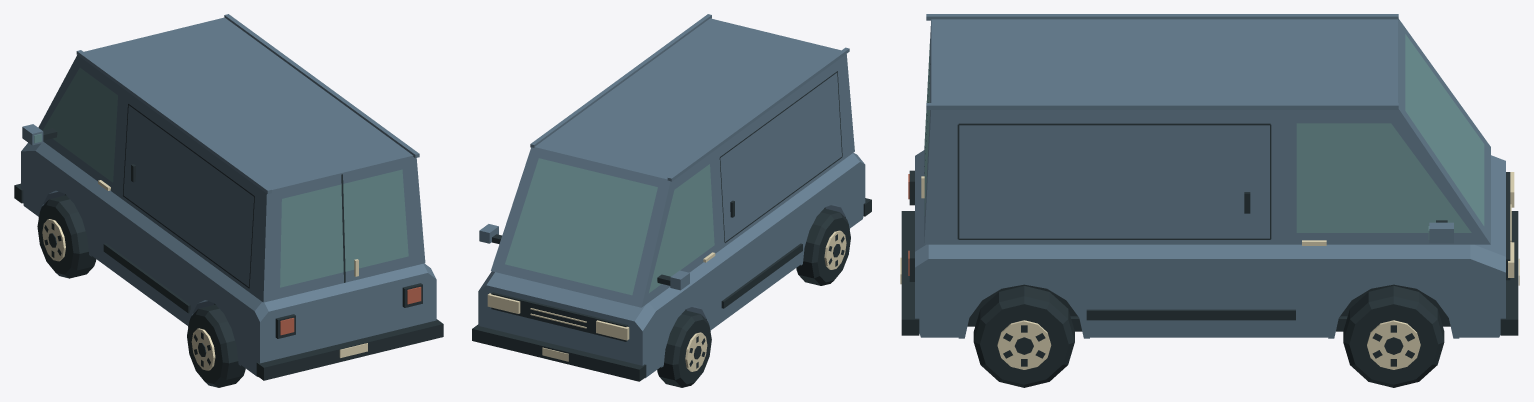
Rendered from van.glb.
3 renders of one model, left to right at view 1: azimuth 30°, elevation 25°; view 2: azimuth 150°, elevation 25°; view 3: azimuth 270°, elevation 25°, orthographic. The views are drawn at different scales.
Visible parts, largest first — view 1: Cabin_roof_13, Cabin_side_11, Body_shell_0, Rear_window_17, Body_upper_facets_1, Rear_window_frame_15, Cab_window_18, Wheel_Front_Left, Wheel_Rear_Left, Rear_bumper_39, Roof_gutter_23, Roof_gutter_29 (+4 smaller); view 2: Cabin_roof_13, Cabin_side_11, Windshield_16, Body_shell_0, Body_upper_facets_1, Windshield_frame_14, Cab_window_18, Wheel_Rear_Left, Wheel_Front_Left, Front_bumper_37, Front_grille_32, Roof_gutter_23 (+7 smaller); view 3: Cabin_side_12, Cabin_roof_13, Body_shell_0, Cab_window_24, Body_upper_facets_1, Wheel_Rear_Right, Wheel_Front_Right, Windshield_16, Roof_gutter_29, Roof_gutter_23, Windshield_frame_14, Cargo_lower_strip_28 (+8 smaller).
Boxes of the visible parts, left/top/right/bottom form: Cabin_roof_13: left=84, top=17, right=412, bottom=189; Cabin_side_11: left=38, top=55, right=266, bottom=301; Body_shell_0: left=21, top=151, right=436, bottom=376; Rear_window_17: left=280, top=169, right=408, bottom=287; Body_upper_facets_1: left=21, top=142, right=435, bottom=322; Rear_window_frame_15: left=263, top=155, right=425, bottom=302; Cab_window_18: left=42, top=68, right=117, bottom=182; Wheel_Front_Left: left=37, top=195, right=96, bottom=278; Wheel_Rear_Left: left=187, top=304, right=245, bottom=387; Rear_bumper_39: left=256, top=319, right=443, bottom=380; Roof_gutter_23: left=76, top=50, right=271, bottom=193; Roof_gutter_29: left=224, top=14, right=419, bottom=157; Cabin_roof_13: left=535, top=18, right=840, bottom=179; Cabin_side_11: left=641, top=54, right=854, bottom=307; Windshield_16: left=505, top=158, right=657, bottom=295; Body_shell_0: left=478, top=162, right=865, bottom=378; Body_upper_facets_1: left=478, top=153, right=864, bottom=331; Windshield_frame_14: left=491, top=147, right=670, bottom=307; Cab_window_18: left=649, top=164, right=714, bottom=292; Wheel_Rear_Left: left=796, top=208, right=850, bottom=285; Wheel_Front_Left: left=657, top=310, right=711, bottom=387; Front_bumper_37: left=472, top=324, right=646, bottom=381; Front_grille_32: left=491, top=292, right=627, bottom=341; Roof_gutter_23: left=667, top=47, right=849, bottom=181; Cabin_side_12: left=924, top=109, right=1490, bottom=244; Cabin_roof_13: left=931, top=19, right=1397, bottom=102; Body_shell_0: left=915, top=259, right=1505, bottom=337; Cab_window_24: left=1296, top=123, right=1471, bottom=232; Body_upper_facets_1: left=915, top=150, right=1505, bottom=272; Wheel_Rear_Right: left=973, top=286, right=1074, bottom=387; Wheel_Front_Right: left=1343, top=286, right=1444, bottom=387; Windshield_16: left=1405, top=34, right=1484, bottom=225; Roof_gutter_29: left=926, top=103, right=1398, bottom=109; Roof_gutter_23: left=926, top=14, right=1398, bottom=20; Windshield_frame_14: left=1398, top=19, right=1490, bottom=244; Cargo_lower_strip_28: left=1086, top=309, right=1295, bottom=320.
Bounding box in the file's own units: 2.26 × 2.18 × 4.53.
